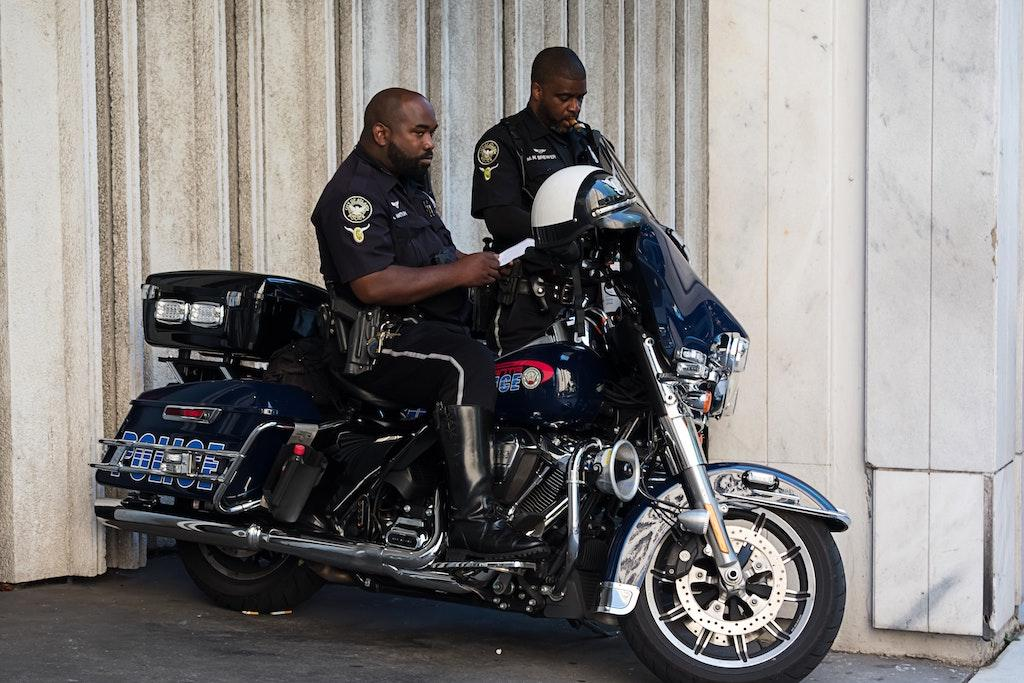helmet: (529, 163, 651, 251)
nohelmet: (361, 86, 439, 185), (529, 45, 589, 137)
